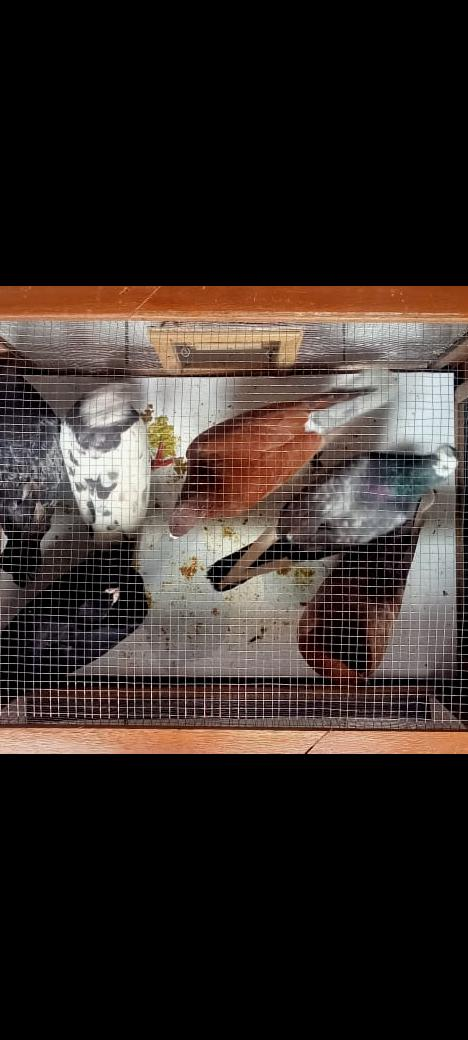Merpati: (167, 366, 395, 544), (207, 443, 458, 592), (296, 517, 426, 691), (0, 562, 145, 694), (60, 378, 150, 564), (0, 359, 63, 588)
